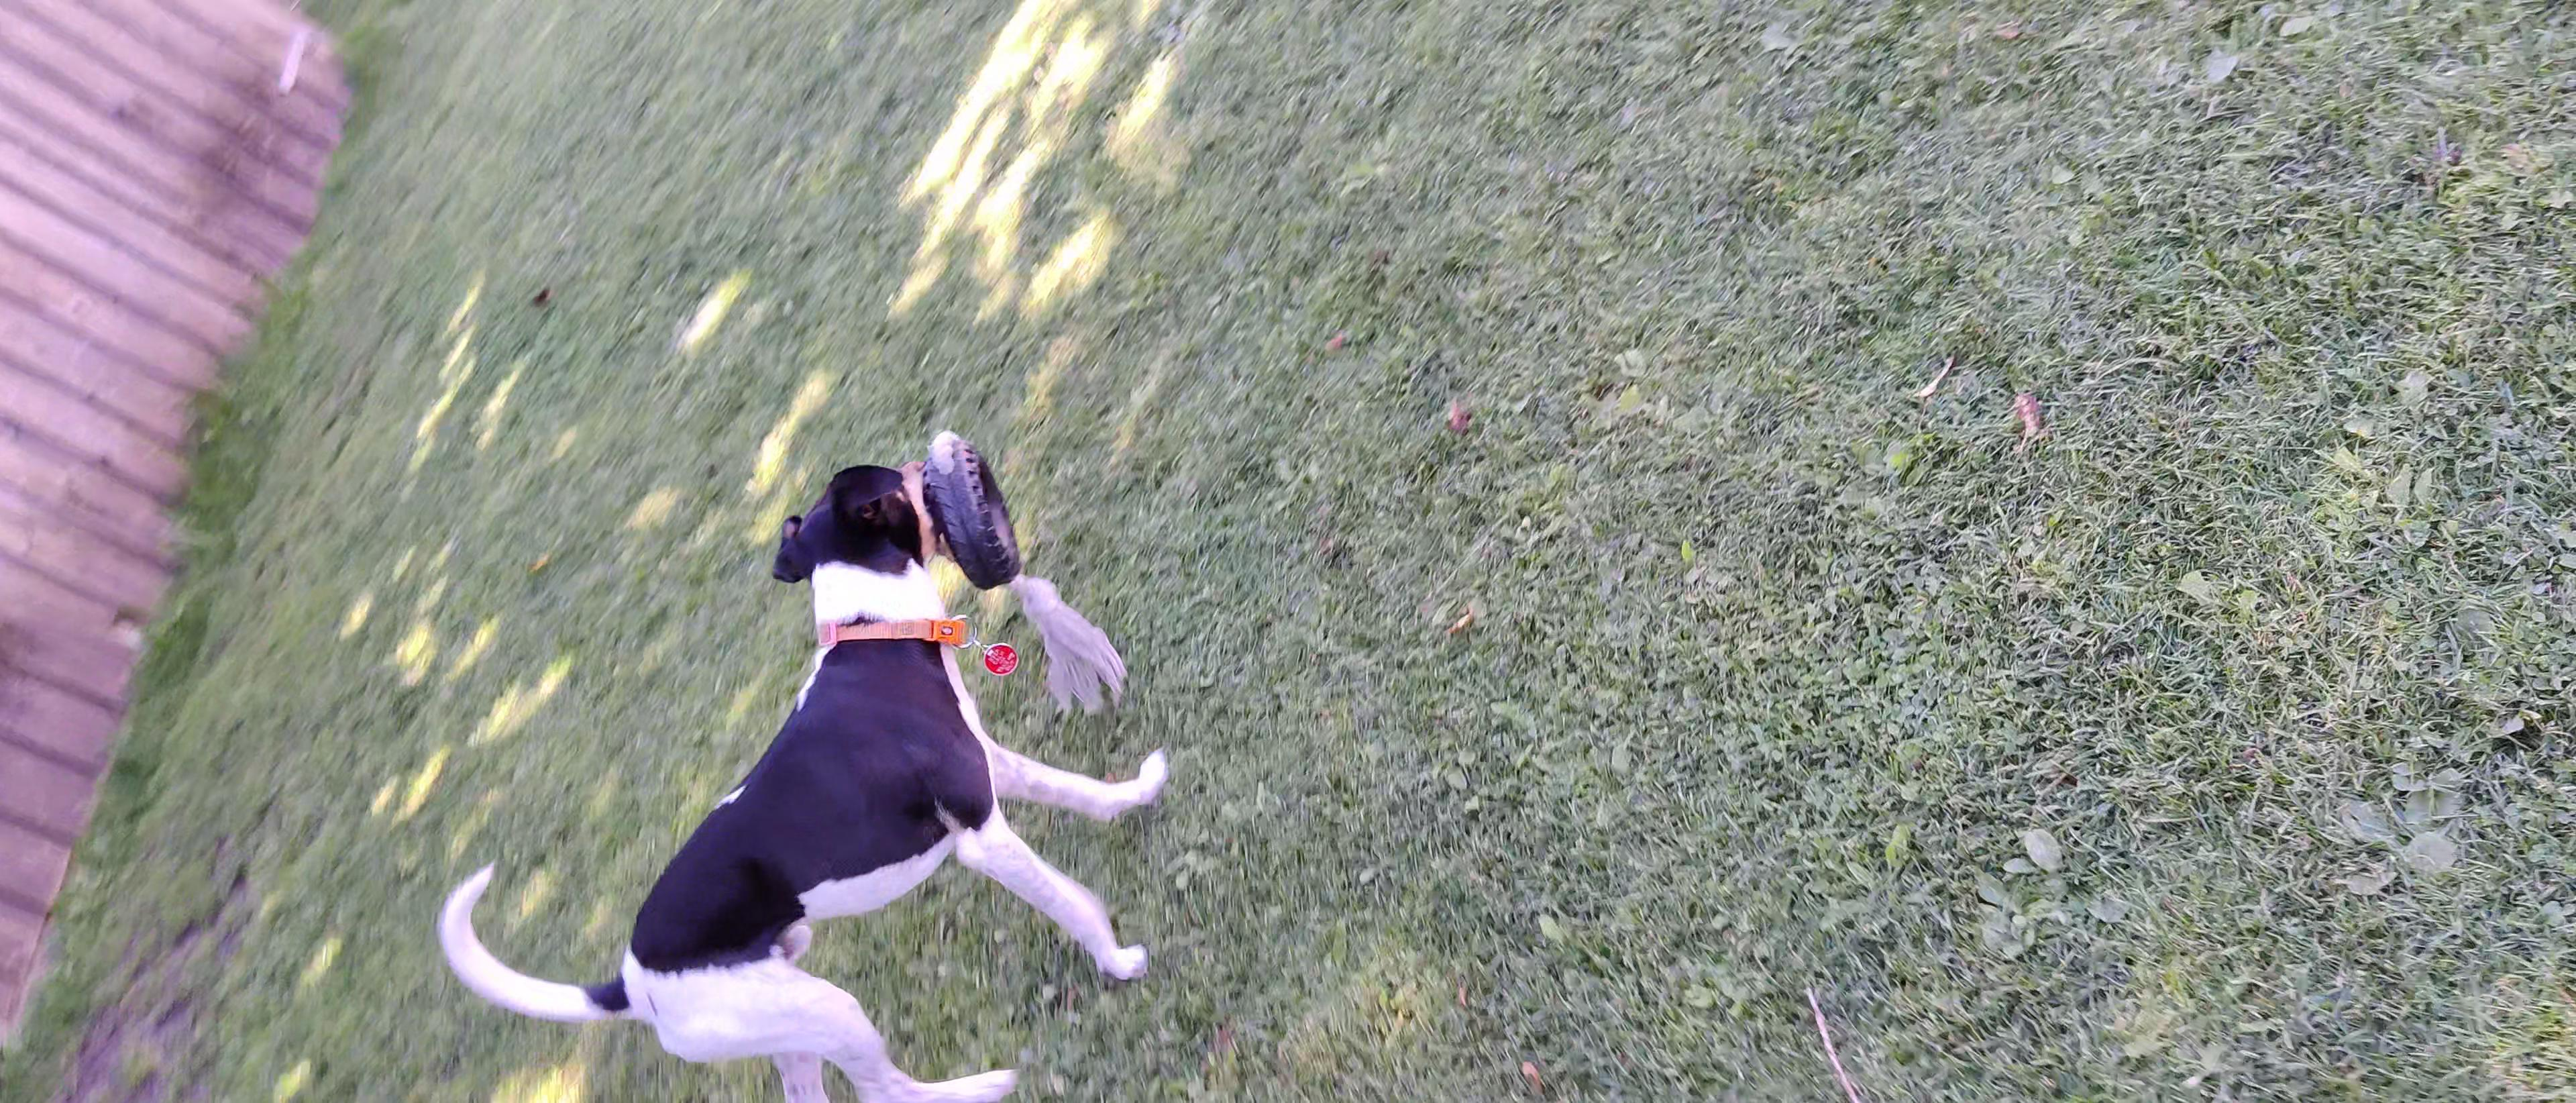Dog: (429, 452, 1180, 1103)
